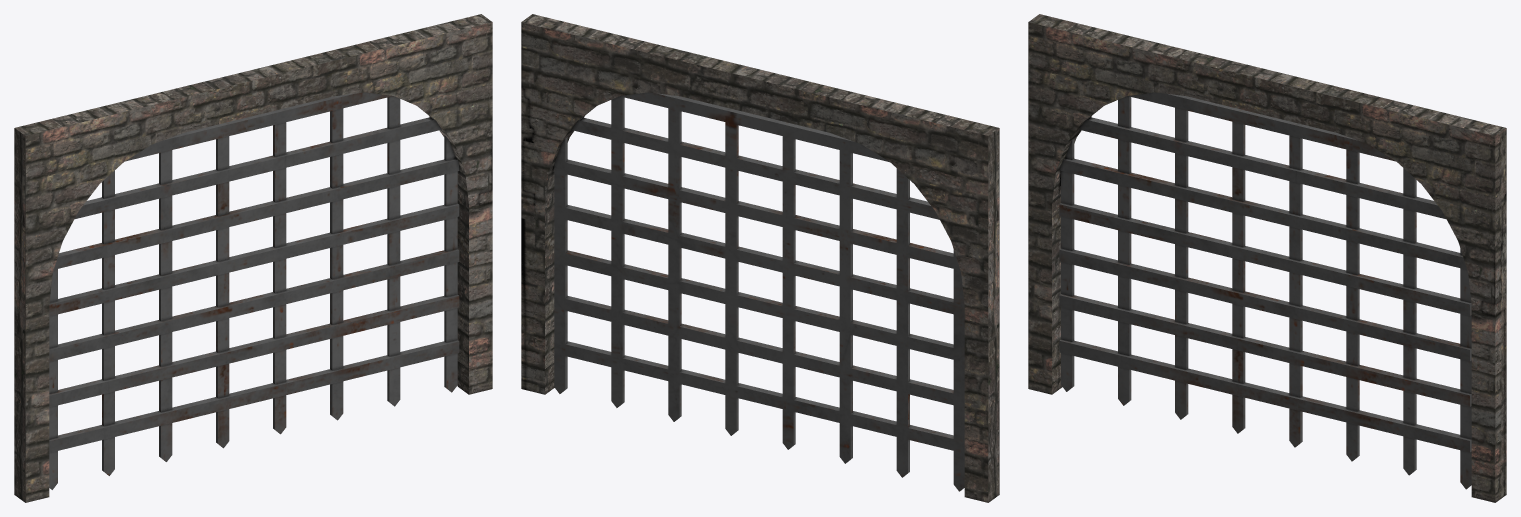
Rendered from Muralla_Porton.fbx.
3 views of the same model, side by side, from view 1: azimuth 30°, elevation 25°; view 2: azimuth 150°, elevation 25°; view 3: azimuth 330°, elevation 25° (orthographic).
Visible parts, largest first — view 1: Muralla_porton; view 2: Muralla_porton; view 3: Muralla_porton.
Part boxes in pixels (left/top/right/bottom): Muralla_porton: left=14, top=14, right=492, bottom=502; Muralla_porton: left=521, top=14, right=999, bottom=502; Muralla_porton: left=1028, top=14, right=1506, bottom=502.
Size of the model in its own units: 13068 by 9811 by 537.
